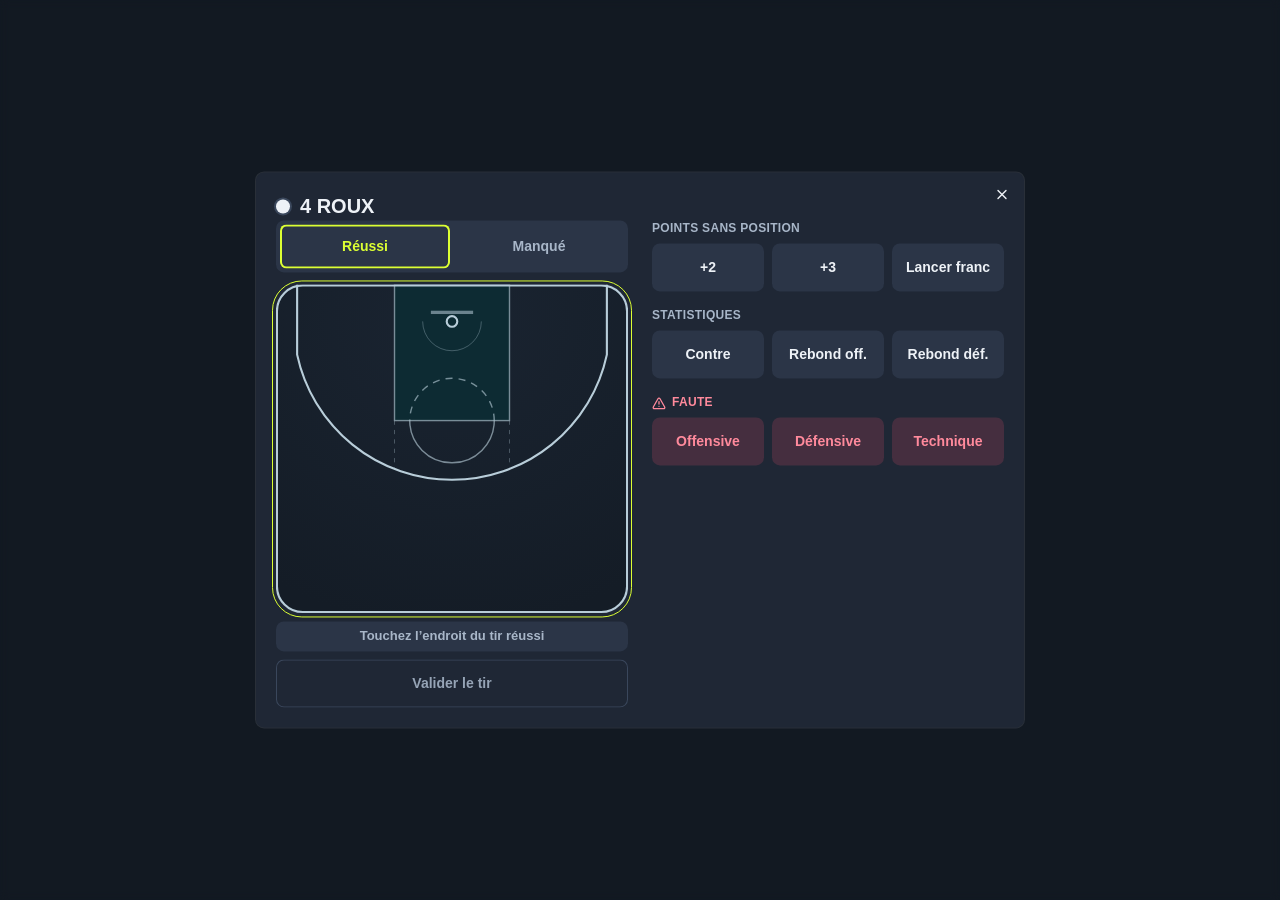
Test: PlayerActionDialog — the free-throw line › goes back to the court without recording anything
This screenshot has width=1280, height=900.
Click the button "Lancer franc". click: point(948, 268)
box: [892,244,1004,292]
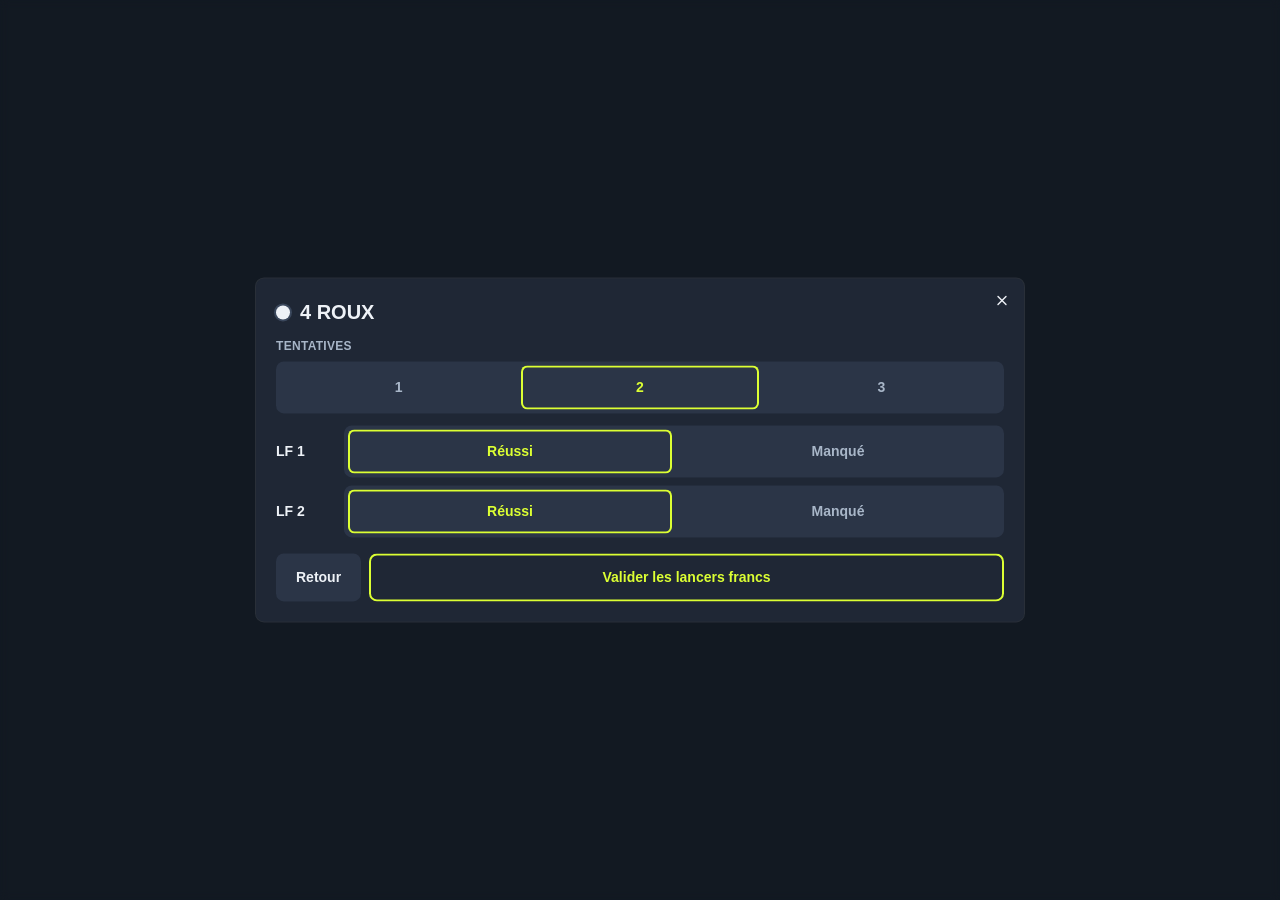
Click the button "Retour". click: point(319, 578)
box: [276,554,361,602]
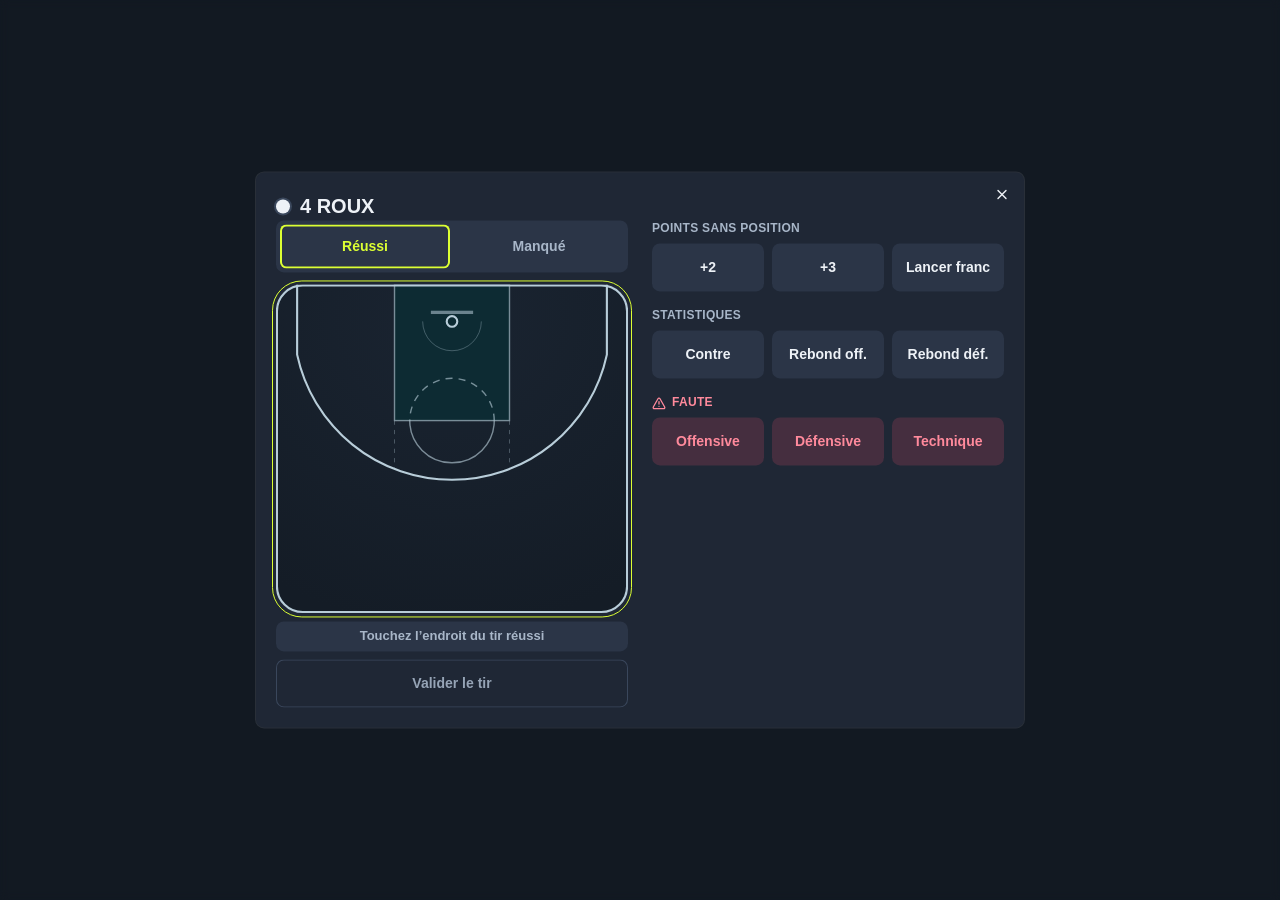
Now the icon named "Demi-terrain — toucher le point de tir" is shown, box [276,284,628,613]
